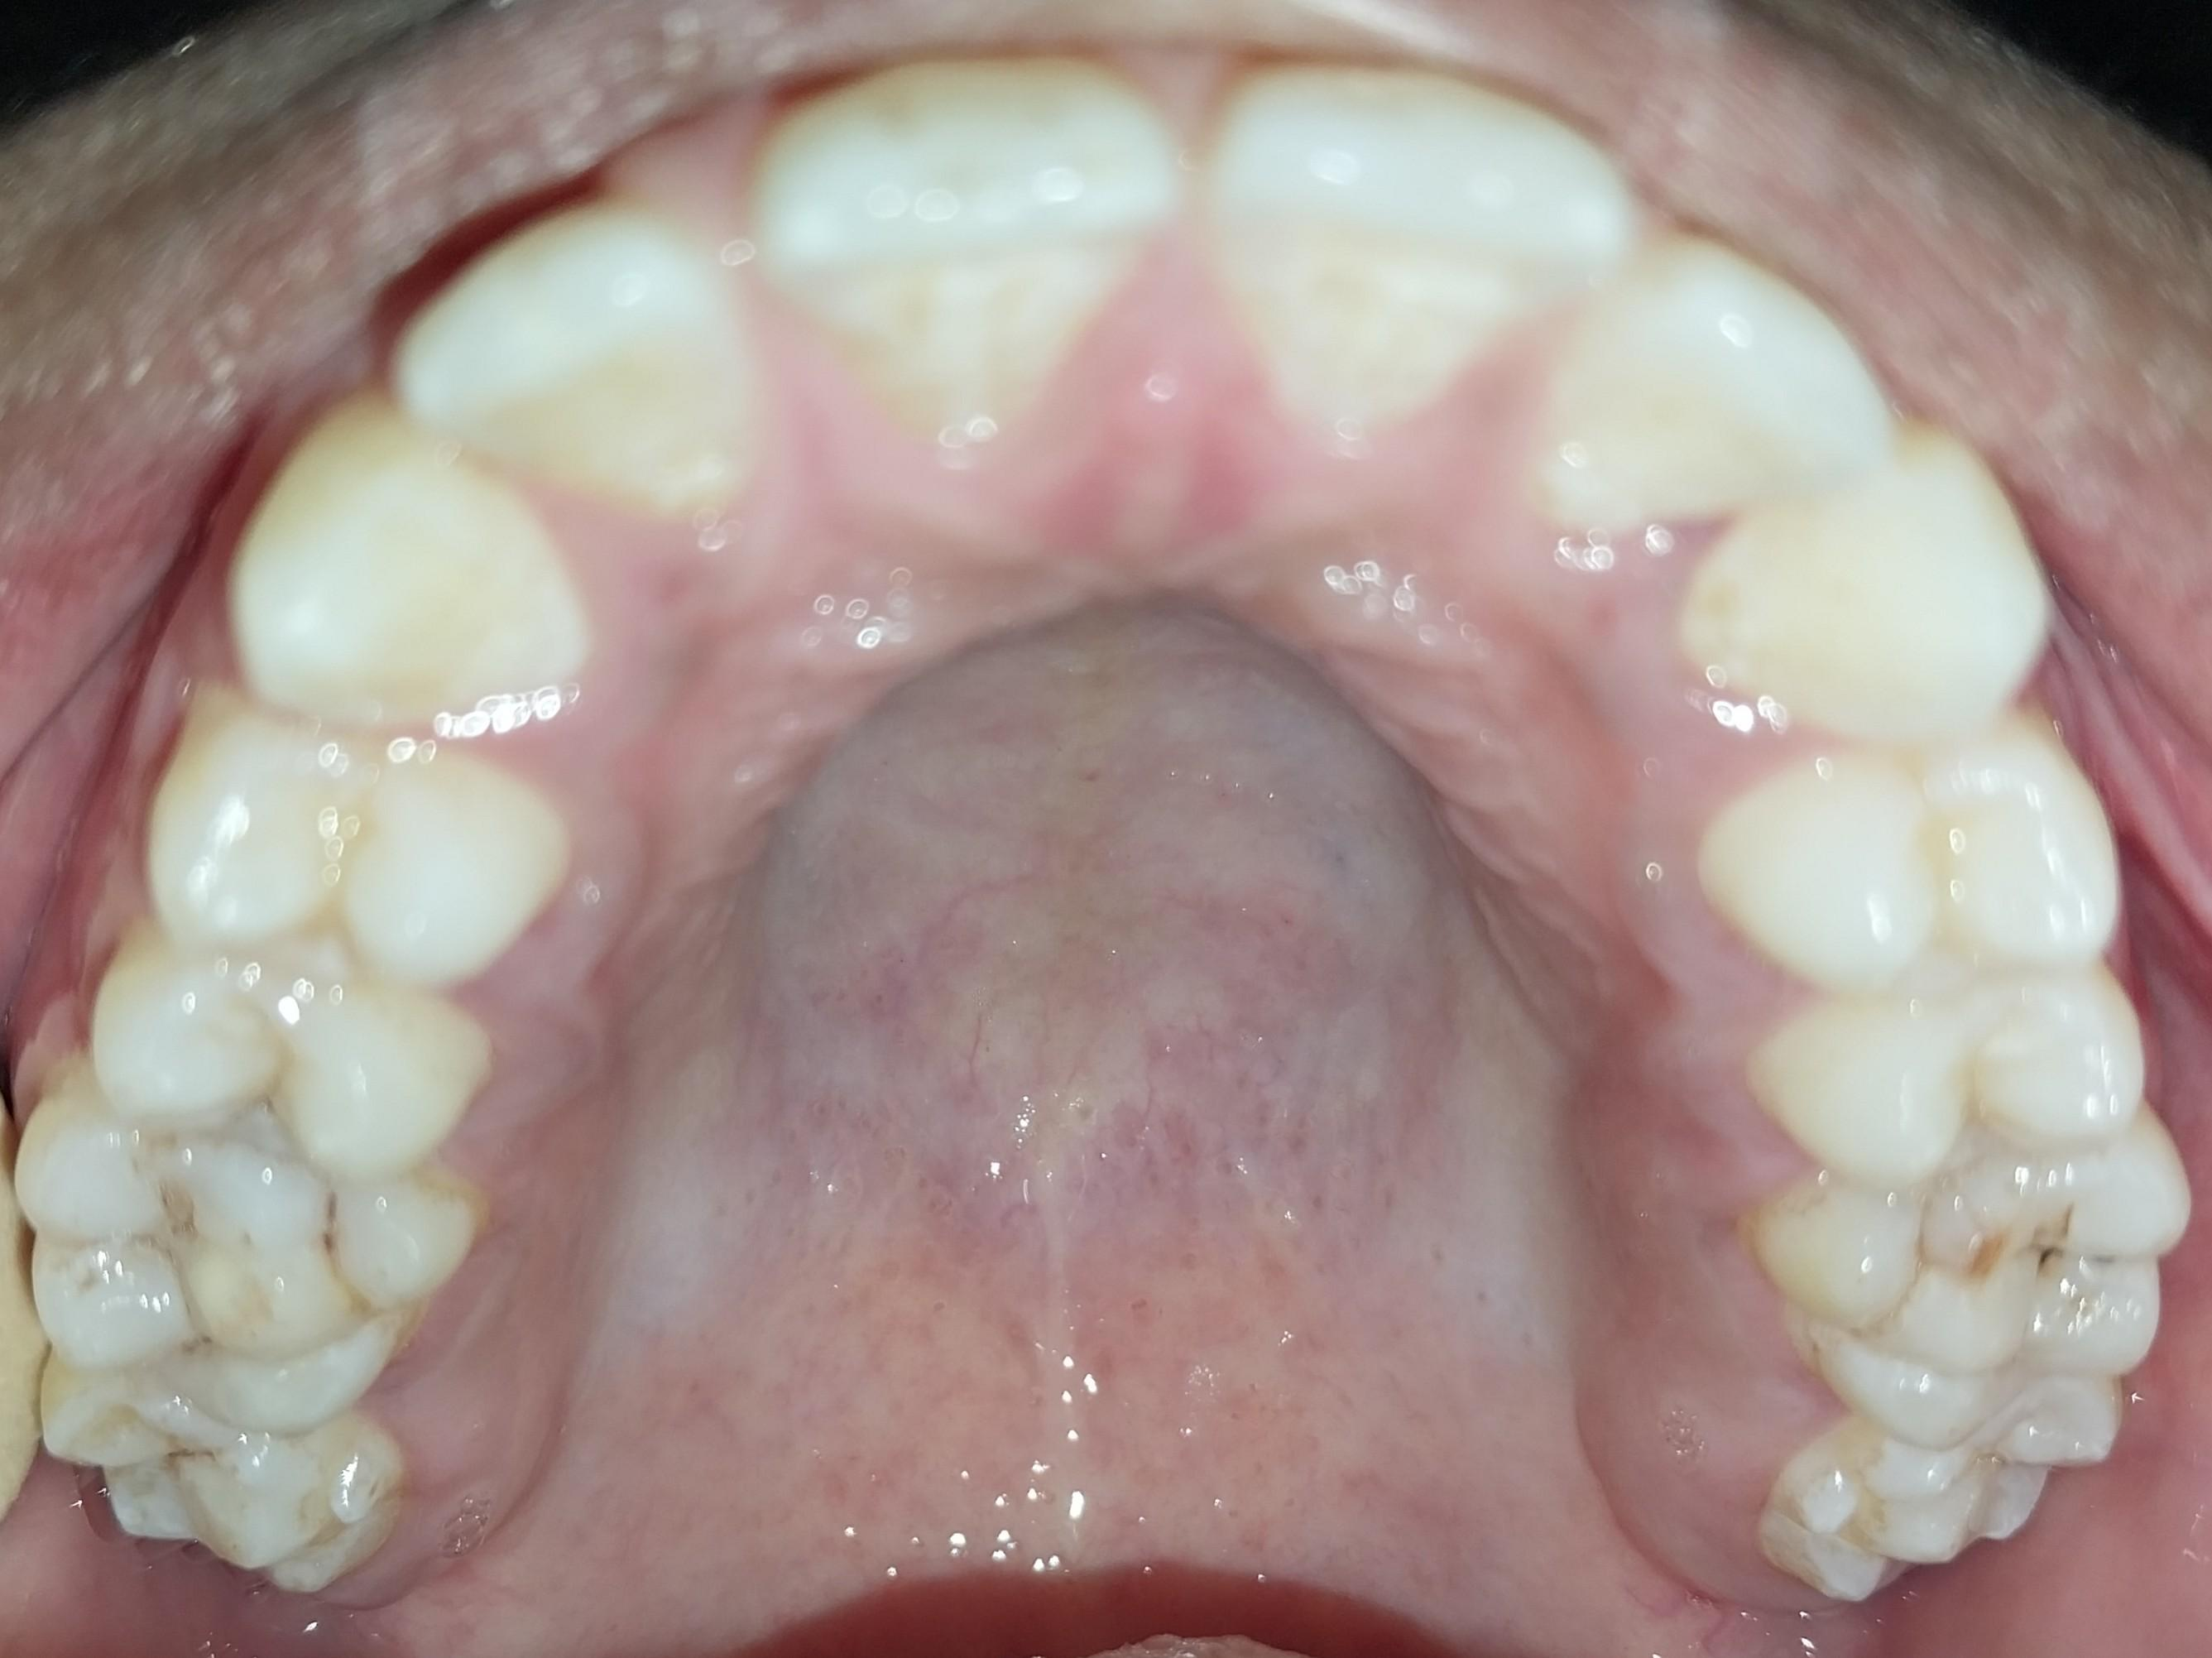D: (1775, 1137, 2190, 1430)
